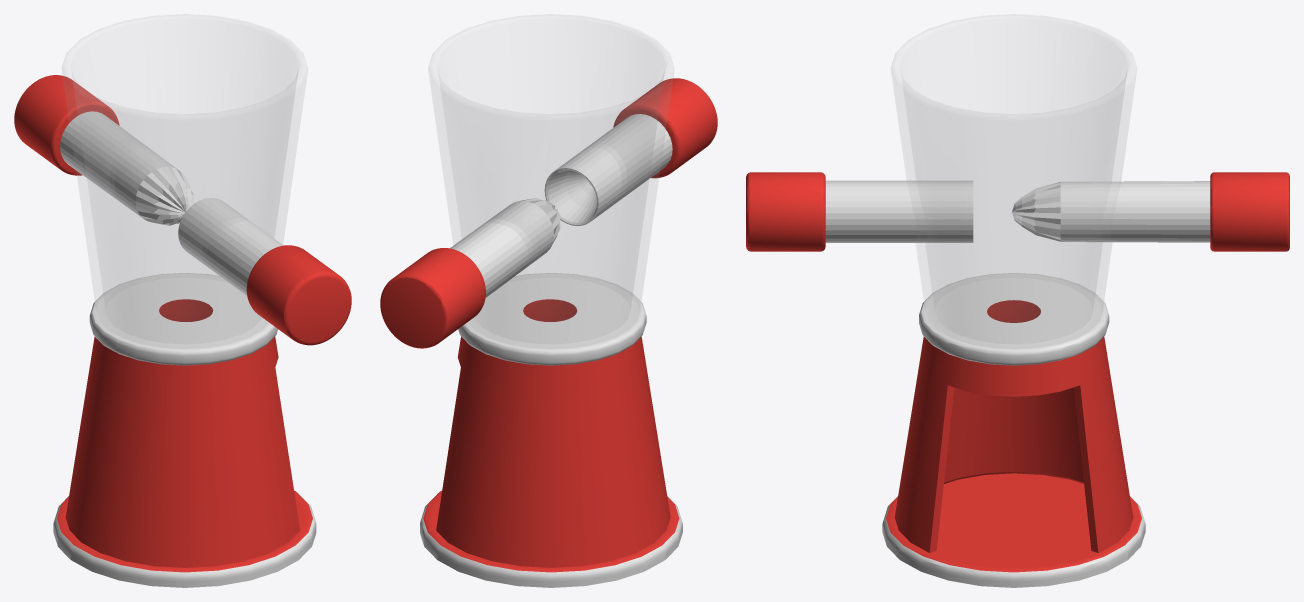
File: juicemachine.fbx
3 renders of one model, left to right at view 1: azimuth 30°, elevation 25°; view 2: azimuth 150°, elevation 25°; view 3: azimuth 270°, elevation 25°, orthographic.
Parts seen in each view (by area): view 1: juicemachinebottom, glass, Cylinder.002, Cylinder.006, Cylinder.001, Cylinder.005; view 2: juicemachinebottom, glass, Cylinder.001, Cylinder.005, Cylinder.002, Cylinder.006; view 3: glass, juicemachinebottom, Cylinder.002, Cylinder.001, Cylinder.005, Cylinder.006.
Boxes of the visible parts, x1=… form: juicemachinebottom: x1=53, y1=273, x2=316, y2=587; glass: x1=62, y1=14, x2=307, y2=343; Cylinder.002: x1=60, y1=111, x2=193, y2=225; Cylinder.006: x1=246, y1=245, x2=351, y2=345; Cylinder.001: x1=178, y1=197, x2=283, y2=295; Cylinder.005: x1=14, y1=75, x2=119, y2=175; juicemachinebottom: x1=420, y1=273, x2=682, y2=587; glass: x1=428, y1=14, x2=673, y2=343; Cylinder.001: x1=544, y1=114, x2=672, y2=225; Cylinder.005: x1=380, y1=248, x2=485, y2=348; Cylinder.002: x1=450, y1=198, x2=560, y2=297; Cylinder.006: x1=613, y1=78, x2=717, y2=178; glass: x1=891, y1=14, x2=1136, y2=343; juicemachinebottom: x1=882, y1=273, x2=1145, y2=587; Cylinder.002: x1=1012, y1=181, x2=1210, y2=242; Cylinder.001: x1=825, y1=180, x2=973, y2=242; Cylinder.005: x1=1210, y1=172, x2=1289, y2=251; Cylinder.006: x1=746, y1=172, x2=825, y2=251.
Bounding box in the file's own units: 164 × 322 × 339.
